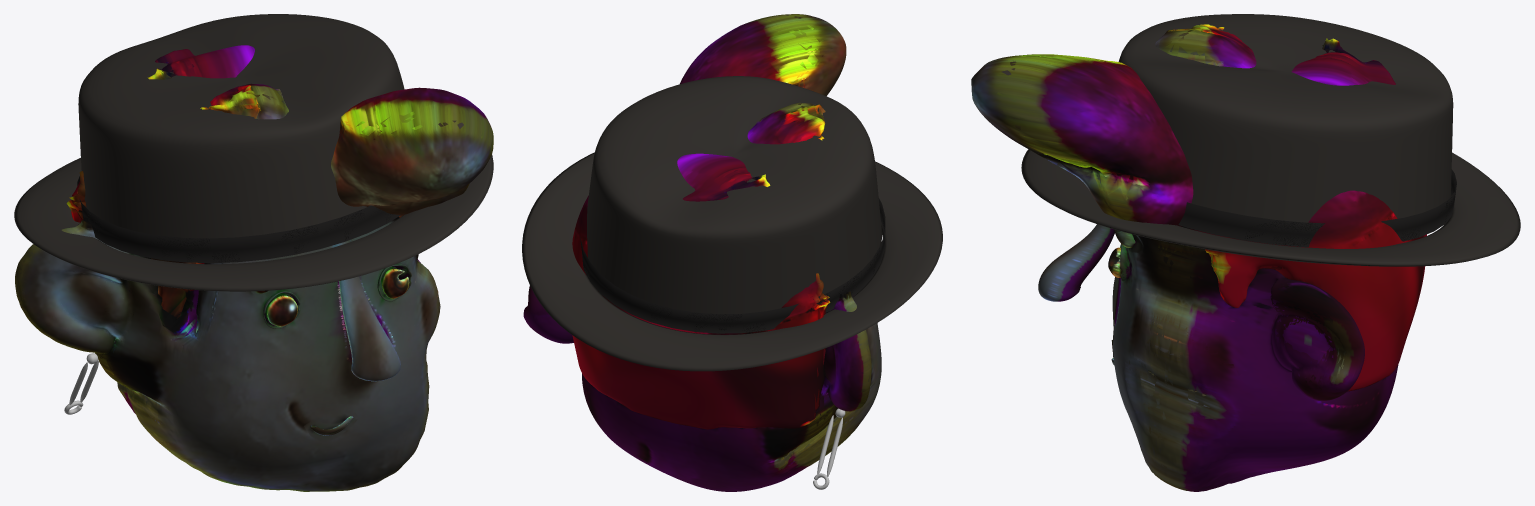
File: face-claySun.glb
3 views of the same model, side by side, from view 1: azimuth 30°, elevation 25°; view 2: azimuth 150°, elevation 25°; view 3: azimuth 270°, elevation 25° (orthographic). The views are drawn at different scales.
Parts seen in each view (by area): view 1: Hat, Skin, Hair, HatBand, Pin, EyeL, EyeR; view 2: Hat, Hair, Skin, HatBand, Pin; view 3: Hat, Skin, Hair, HatBand.
Boxes of the visible parts, bbox=[...] form: Hat: bbox=[14, 14, 493, 291]; Skin: bbox=[15, 216, 440, 491]; Hair: bbox=[66, 45, 493, 318]; HatBand: bbox=[77, 176, 400, 263]; Pin: bbox=[64, 353, 98, 414]; EyeL: bbox=[267, 295, 297, 326]; EyeR: bbox=[382, 268, 409, 298]; Hat: bbox=[522, 76, 942, 371]; Hair: bbox=[572, 14, 846, 429]; Skin: bbox=[523, 286, 881, 491]; HatBand: bbox=[580, 198, 885, 333]; Pin: bbox=[813, 408, 845, 489]; Hat: bbox=[1021, 14, 1520, 266]; Skin: bbox=[1038, 224, 1398, 491]; Hair: bbox=[971, 24, 1426, 391]; HatBand: bbox=[1178, 169, 1456, 247].
Bounding box in the file's own units: 2.83 × 2.9 × 3.35.
Materials: 11 (7 with a texture image).
